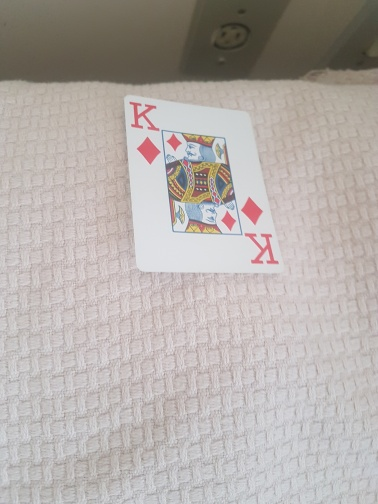king: (124, 94, 284, 272)
